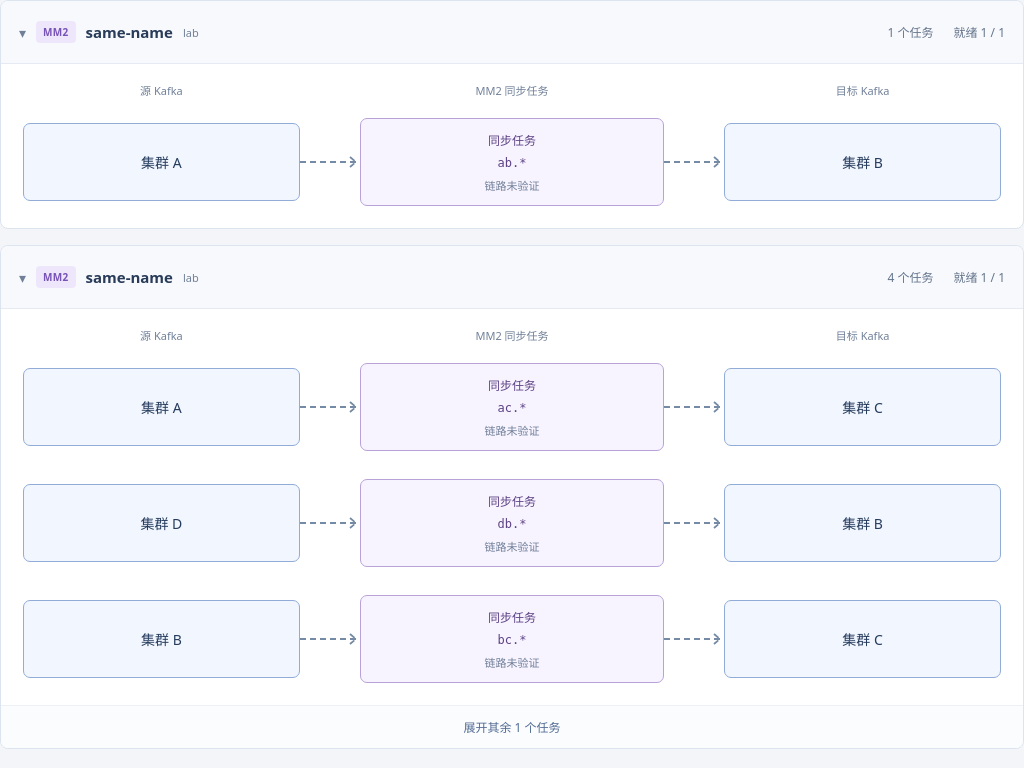
Test: collapses instances and treats same-name distinct UIDs as separate instances
Click the 1st button "▾ MM2 same-name lab".
click(109, 32)  # box [19,15,199,49]
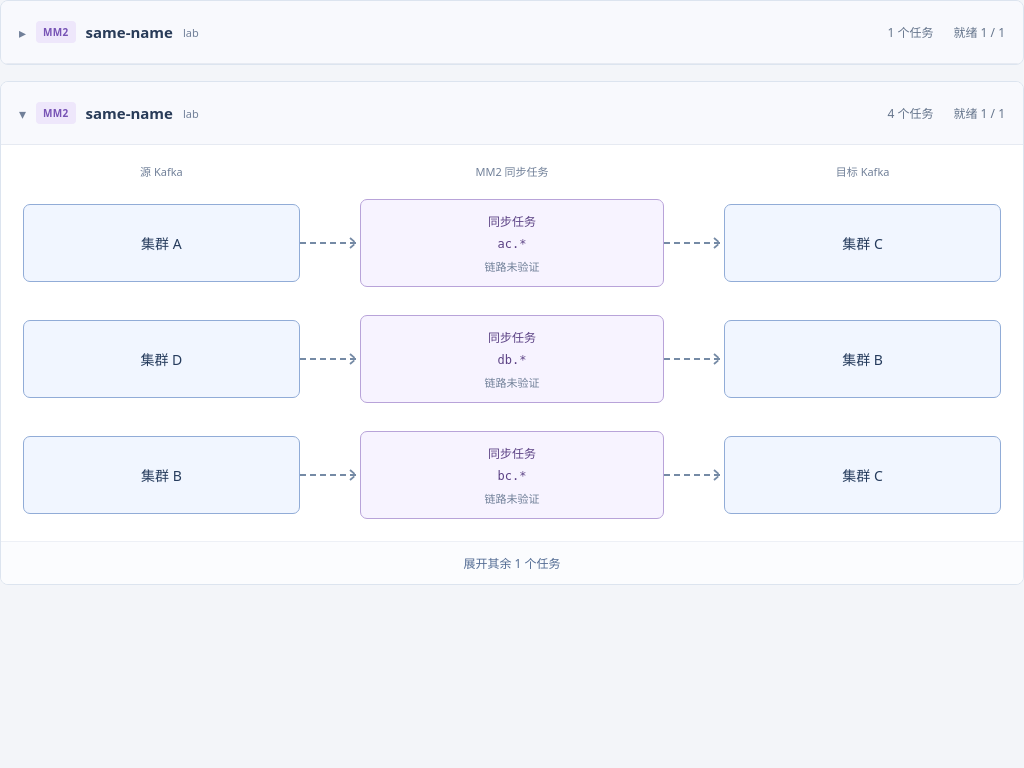
Expected: the number of list items is 3, [23,185,1001,301]; [23,301,1001,417]; [23,417,1001,533]
